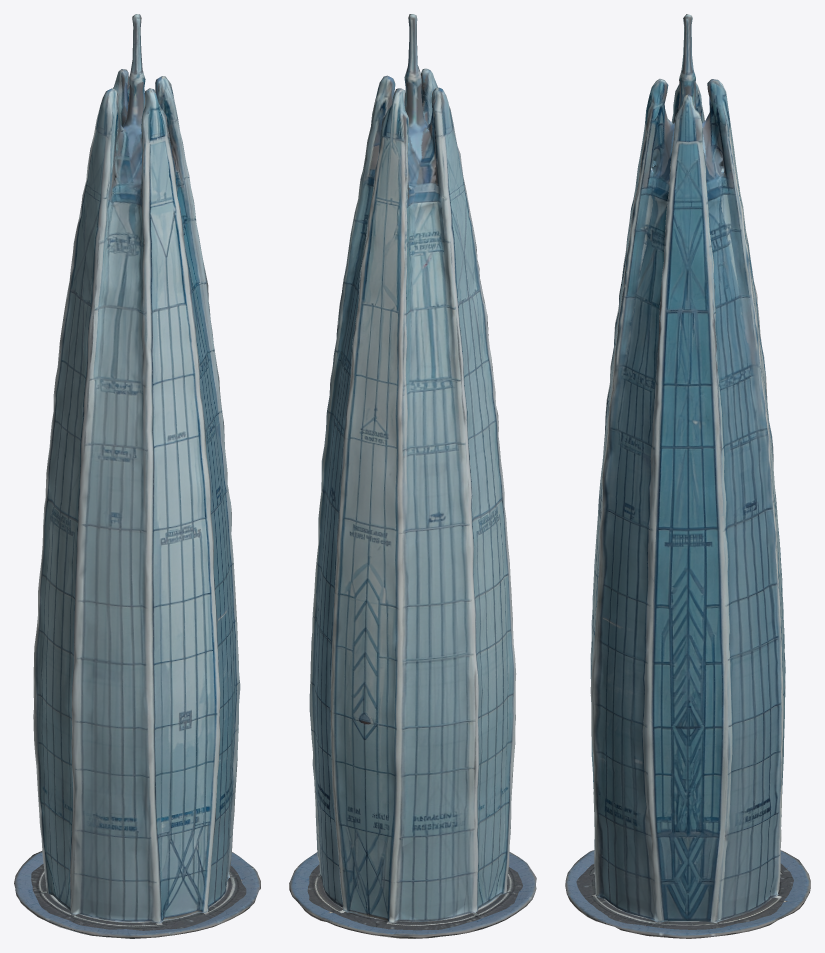
File: 롯데_롯데월드타워.glb
The picture shows the model from 3 angles, left to right: view 1: azimuth 30°, elevation 25°; view 2: azimuth 150°, elevation 25°; view 3: azimuth 270°, elevation 25°; orthographic projection.
Visible parts, largest first — view 1: texture_mapping; view 2: texture_mapping; view 3: texture_mapping.
Part boxes in pixels (x1,y1,x2,y2): texture_mapping: (14, 14, 260, 938); texture_mapping: (289, 14, 536, 938); texture_mapping: (565, 14, 810, 938).
Bounding box in the file's own units: 0.2567 × 1 × 0.2561.
Materials: 1 (1 with a texture image).
